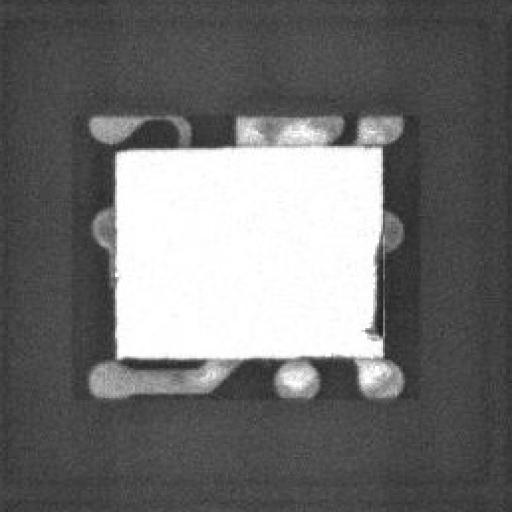DIE_BROKEN: (359, 230, 385, 340)
